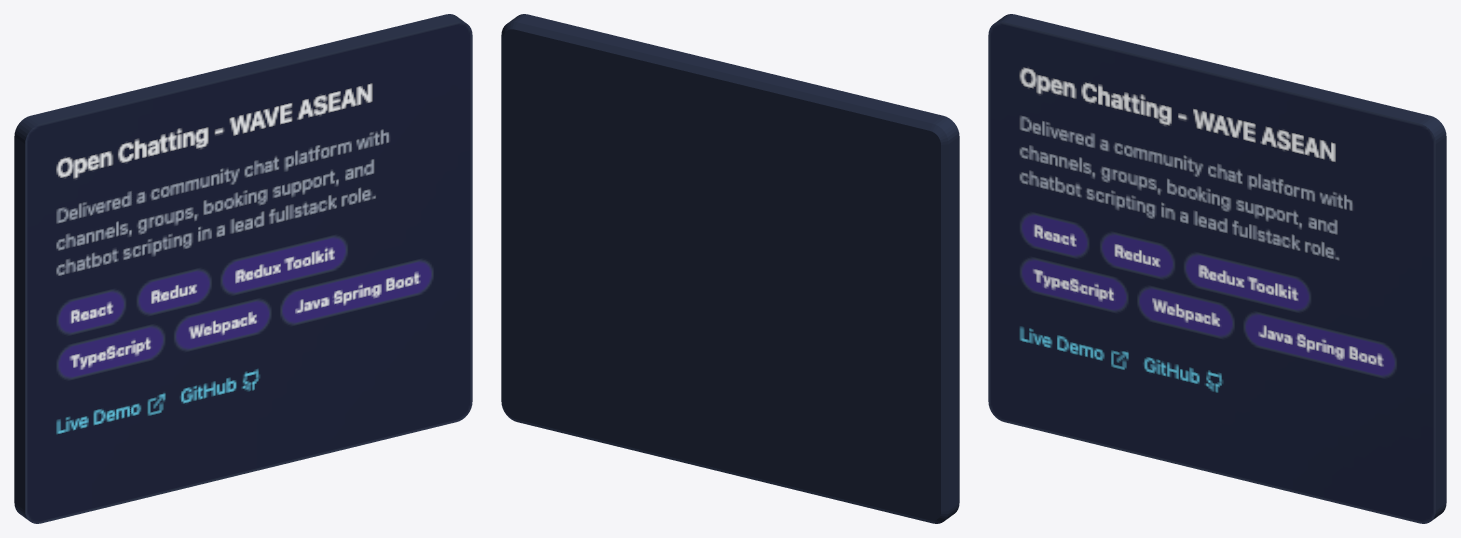
The model's file is 07-open-chatting-wave-asean.glb.
3 views of the same model, side by side, from view 1: azimuth 30°, elevation 25°; view 2: azimuth 150°, elevation 25°; view 3: azimuth 330°, elevation 25° (orthographic).
Parts seen in each view (by area): view 1: open-chatting-wave-asean; view 2: open-chatting-wave-asean; view 3: open-chatting-wave-asean.
Boxes of the visible parts, left/top/right/bottom form: open-chatting-wave-asean: left=14, top=14, right=472, bottom=523; open-chatting-wave-asean: left=501, top=14, right=959, bottom=523; open-chatting-wave-asean: left=988, top=14, right=1446, bottom=523.
Size of the model in its own units: 2 by 1.71 by 0.105.
2 materials, 1 textured.
